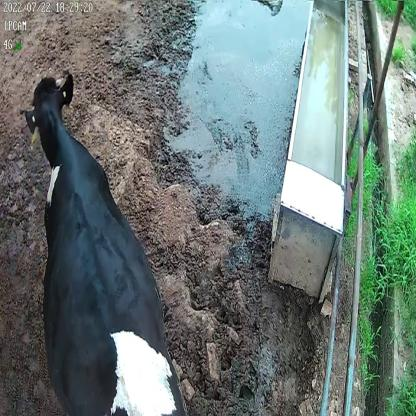cow: (23, 71, 189, 416)
